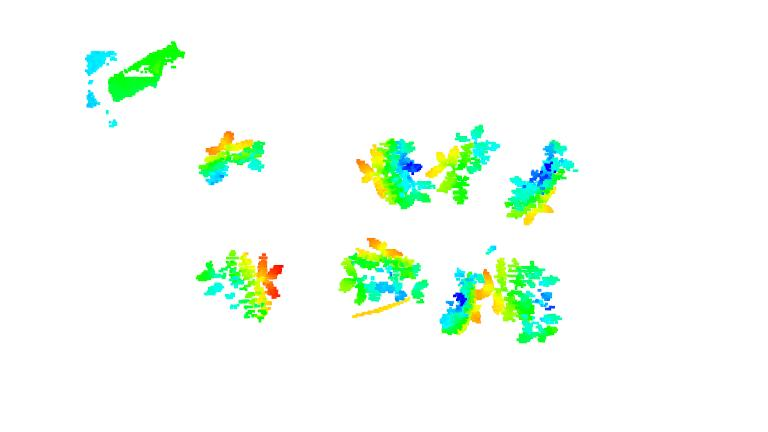chickpea: (475, 255, 562, 342), (336, 236, 429, 307), (501, 139, 575, 226), (425, 124, 502, 206), (194, 251, 281, 323), (357, 139, 434, 207), (195, 129, 267, 187), (439, 266, 481, 335)
